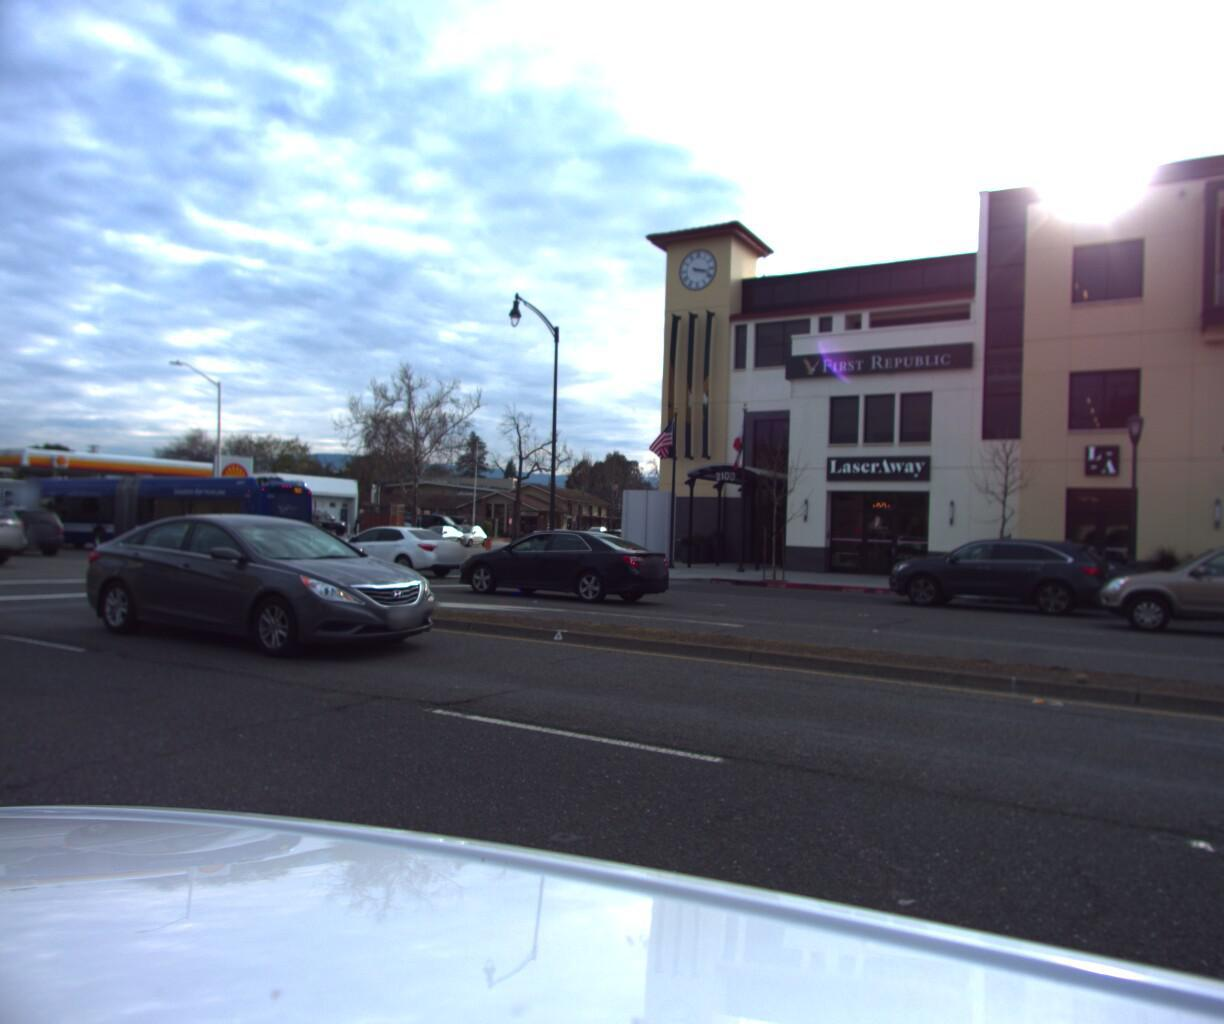bus: (4, 480, 319, 560)
car: (75, 519, 471, 680), (451, 525, 688, 607), (884, 536, 1112, 610), (947, 543, 1156, 613), (1096, 534, 1224, 642), (300, 523, 455, 579), (0, 503, 68, 558), (0, 494, 29, 568), (441, 525, 493, 549)
other_vehicle: (0, 476, 41, 546)
